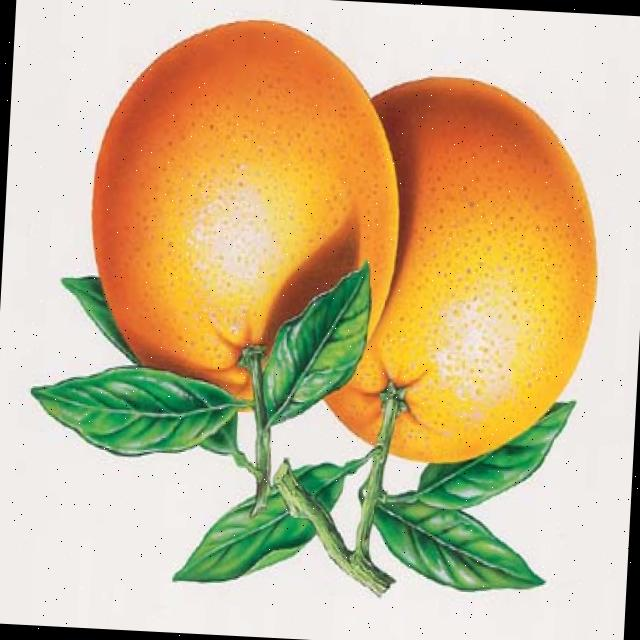Jeruk: (80, 12, 410, 418), (318, 71, 608, 474)
